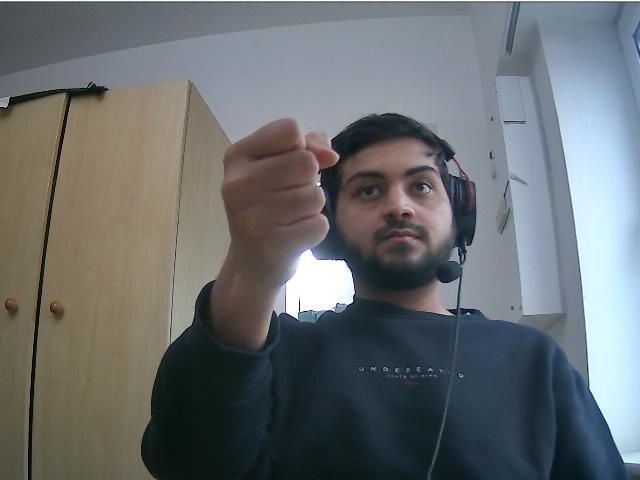hold: (216, 116, 337, 255)
